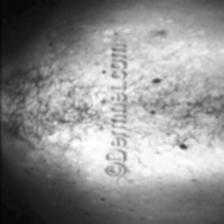Toxin: (151, 75, 169, 85), (176, 142, 188, 154)
